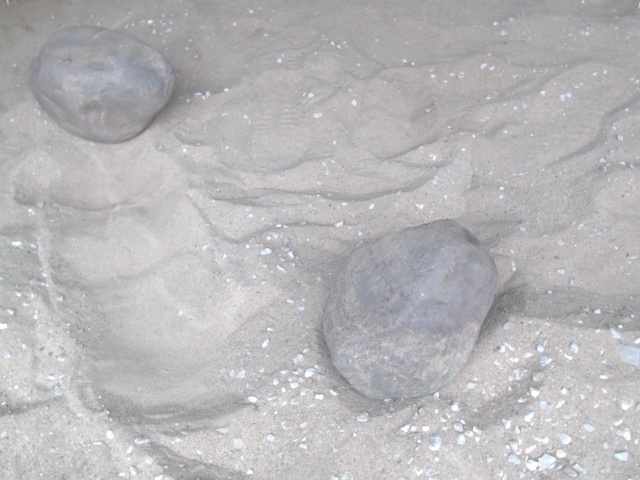rock: (317, 212, 502, 407), (25, 22, 179, 149)
